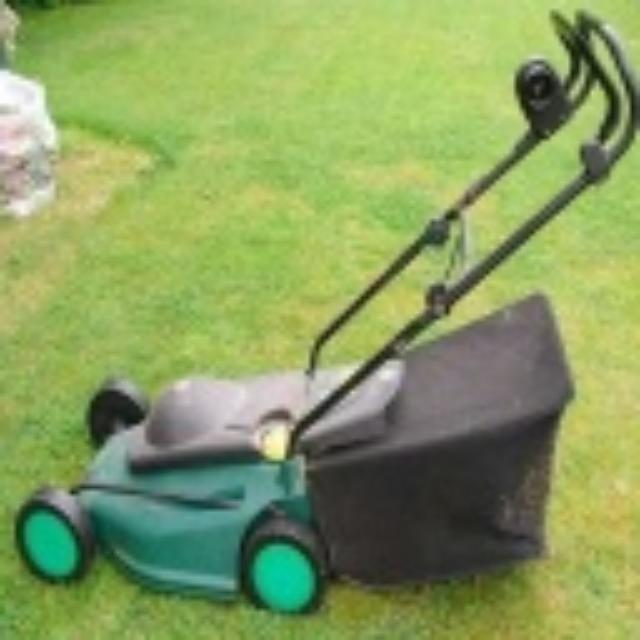Rotary-Mower: (10, 5, 634, 615)
